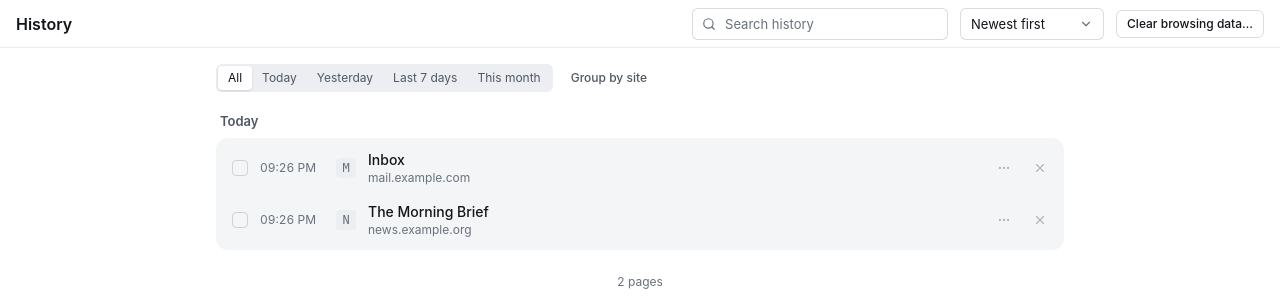
the history list › drops a slow search that answers after a newer one
Check: the text "Inbox" is shown, box [368,150,405,170]
Type "held" into the search field at (820, 24), box [692,8,948,40]
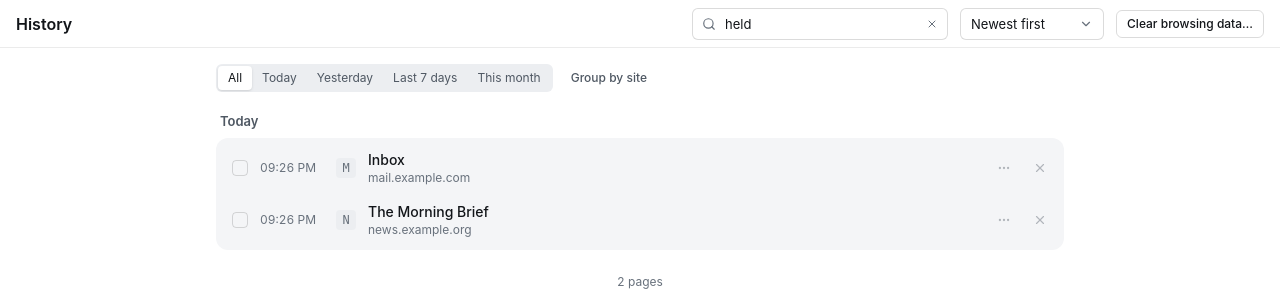
Replace the text in the search field with "brief" at (820, 24), box [692,8,948,40]
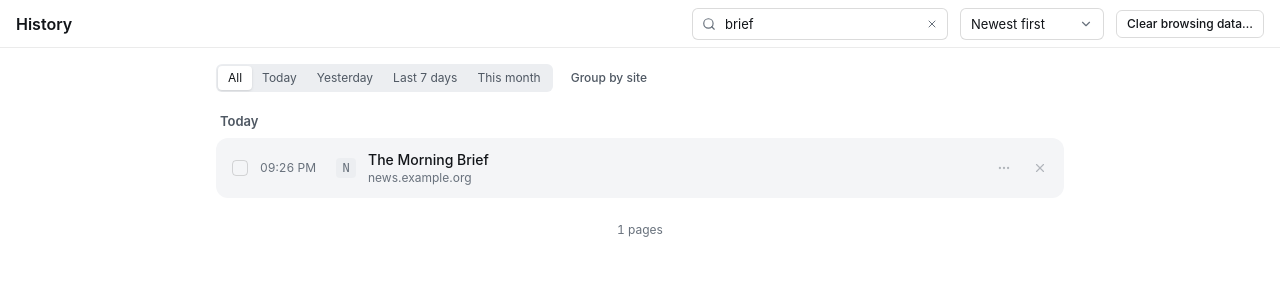
Check: the text "The Morning Brief" is shown, box [368,150,489,170]
Check: the button "Inbox" is gone
